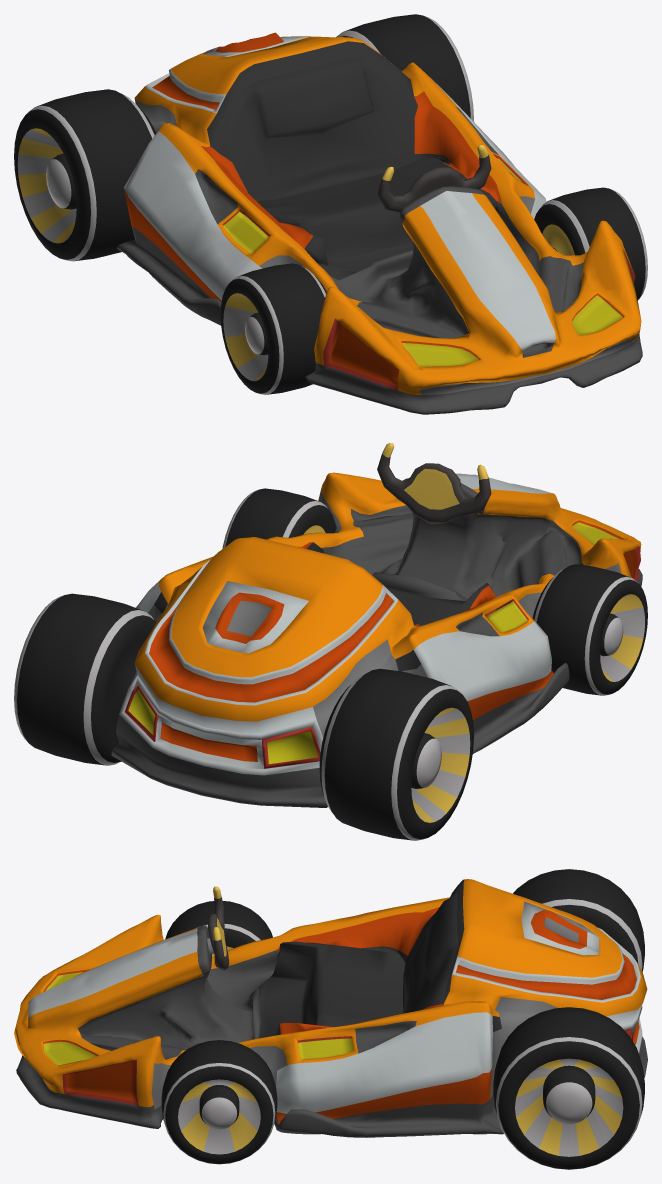
Rendered from 05_XE CAM.fbx.
3 renders of one model, top to bottom at view 1: azimuth 30°, elevation 25°; view 2: azimuth 150°, elevation 25°; view 3: azimuth 270°, elevation 25°, orthographic. The views are drawn at different scales.
Parts seen in each view (by area): view 1: Than Xe, Banh.001, Banh.002, Banh.004, Banh.003, Vo Lang; view 2: Than Xe, Banh.001, Banh.003, Banh.002, Vo Lang, Banh.004; view 3: Than Xe, Banh.003, Banh.004, Banh.001, Banh.002, Vo Lang.
Boxes of the visible parts, x1=… form: Than Xe: x1=117, y1=32, x2=642, y2=414; Banh.001: x1=14, y1=89, x2=156, y2=261; Banh.002: x1=220, y1=263, x2=326, y2=394; Banh.004: x1=534, y1=187, x2=647, y2=300; Banh.003: x1=336, y1=14, x2=473, y2=121; Vo Lang: x1=377, y1=144, x2=491, y2=212; Than Xe: x1=111, y1=472, x2=642, y2=807; Banh.001: x1=319, y1=668, x2=473, y2=840; Banh.003: x1=14, y1=593, x2=156, y2=765; Banh.002: x1=532, y1=564, x2=647, y2=695; Vo Lang: x1=377, y1=443, x2=491, y2=524; Banh.004: x1=222, y1=488, x2=336, y2=548; Than Xe: x1=14, y1=879, x2=647, y2=1137; Banh.003: x1=493, y1=1007, x2=644, y2=1169; Banh.004: x1=161, y1=1040, x2=277, y2=1164; Banh.001: x1=513, y1=869, x2=644, y2=971; Banh.002: x1=165, y1=901, x2=272, y2=957; Vo Lang: x1=207, y1=886, x2=229, y2=970.
Size of the model in its own units: 194 by 94.88 by 294.
